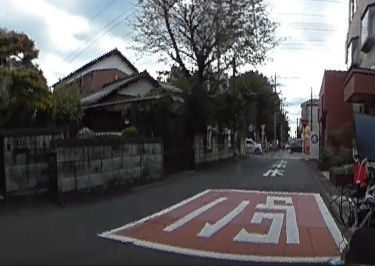person: (363, 55, 375, 266)
